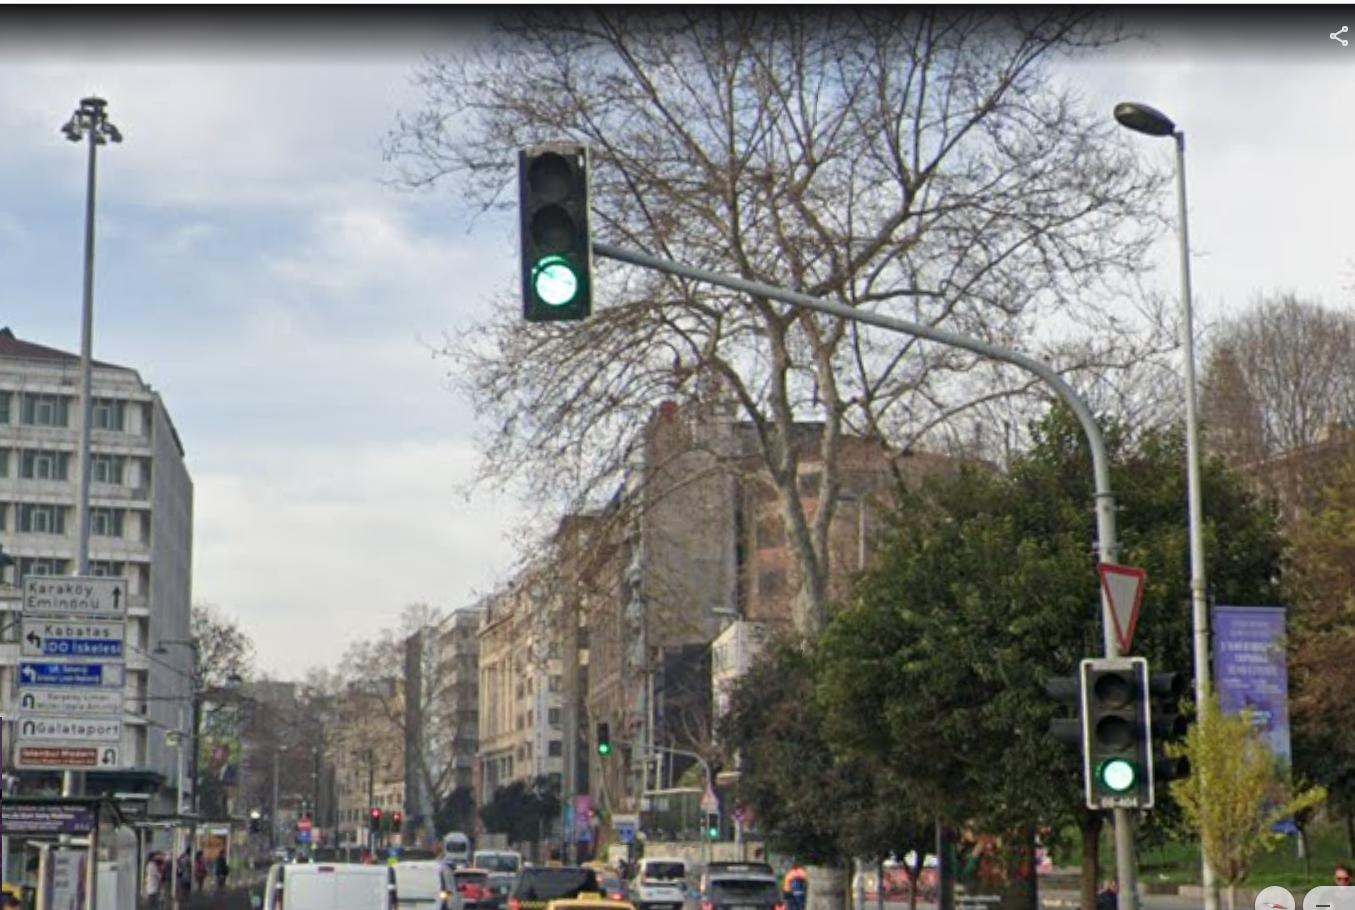greenlight: (522, 150, 593, 317), (1080, 655, 1153, 806)
